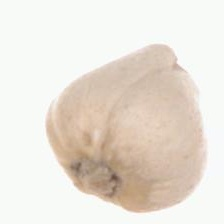L3: (156, 42, 197, 88)
L4: (45, 44, 207, 212)
